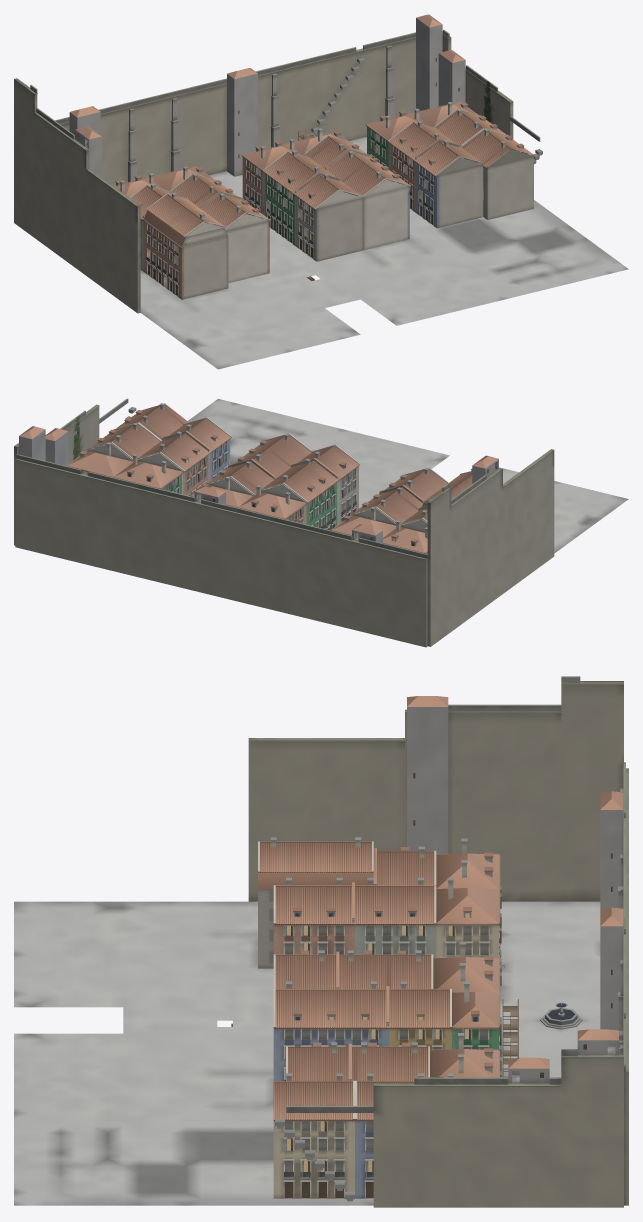
Rendered from baixa_n.glb.
The picture shows the model from 3 angles, top to bottom: view 1: azimuth 30°, elevation 25°; view 2: azimuth 150°, elevation 25°; view 3: azimuth 270°, elevation 25°; orthographic projection. The views are drawn at different scales.
Visible parts, largest first — view 1: ground_baixa_low, carmo_cliff_3, carmo_cliff_2, baixa_w_w3, stairs_east_5, stairs_east_4, baixa_e_w3, baixa_f_w3, baixa_e_e2, baixa_f_e4, baixa_w_e2, carmo_cliff_1 (+24 smaller); view 2: carmo_cliff_1, carmo_cliff_2, carmo_cliff_3, ground_baixa_low, stairs_east_5, stairs_east_4, stairs_east_7, baixa_e_w2, baixa_f_w2, baixa_e_e2, baixa_e_w3, baixa_f_e5 (+22 smaller); view 3: ground_baixa_low, judiaria_west_3, stairs_east_5, stairs_east_4, stairs_east_7, judiaria_west_8, baixa_f_e4, baixa_e_e2, stairs_towers_2, baixa_w_w3, baixa_w_e3, baixa_w_e2 (+22 smaller).
Boxes of the visible parts, x1,y1,x2,y2 form: ground_baixa_low: (140, 137, 628, 369); carmo_cliff_3: (291, 37, 415, 141); carmo_cliff_2: (154, 67, 290, 175); baixa_w_w3: (143, 192, 228, 299); stairs_east_5: (34, 112, 89, 275); stairs_east_4: (86, 168, 140, 313); baixa_e_w3: (295, 173, 364, 261); baixa_f_w3: (415, 140, 483, 228); baixa_e_e2: (325, 148, 410, 250); baixa_f_e4: (462, 128, 534, 219); baixa_w_e2: (199, 191, 270, 283); carmo_cliff_1: (60, 101, 153, 185); carmo_cliff_1: (289, 525, 427, 647); carmo_cliff_2: (152, 492, 289, 613); carmo_cliff_3: (15, 458, 152, 580); ground_baixa_low: (188, 399, 628, 553); stairs_east_5: (451, 468, 502, 631); stairs_east_4: (503, 449, 554, 593); stairs_east_7: (427, 487, 451, 646); baixa_e_w2: (261, 458, 339, 530); baixa_f_w2: (137, 430, 210, 496); baixa_e_e2: (227, 433, 312, 485); baixa_e_w3: (297, 444, 360, 524); baixa_f_e5: (86, 422, 161, 461); ground_baixa_low: (14, 901, 600, 1205); judiaria_west_3: (373, 1083, 561, 1207); stairs_east_5: (405, 709, 561, 901); stairs_east_4: (248, 738, 404, 901); stairs_east_7: (561, 681, 623, 901); judiaria_west_8: (561, 1055, 623, 1207); baixa_f_e4: (273, 1073, 354, 1198); baixa_e_e2: (273, 981, 389, 1080); stairs_towers_2: (407, 696, 448, 853); baixa_w_w3: (258, 837, 373, 968); baixa_w_e3: (355, 877, 436, 957); baixa_w_e2: (273, 877, 354, 954).
Bounding box in the file's own units: 117 × 43.58 × 98.3.
